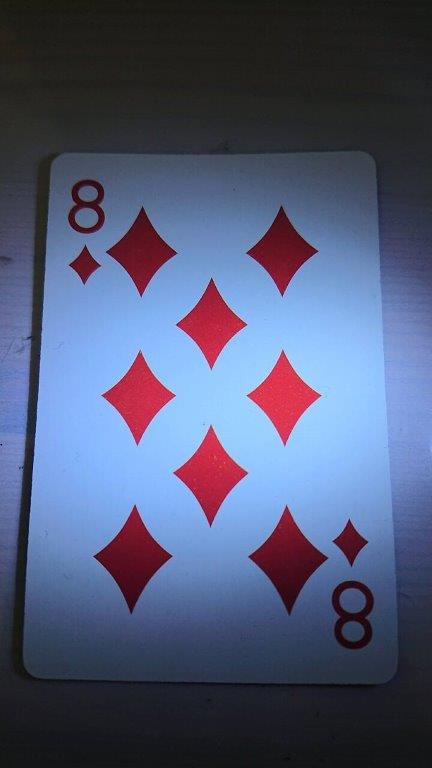8D: (20, 149, 400, 687)
